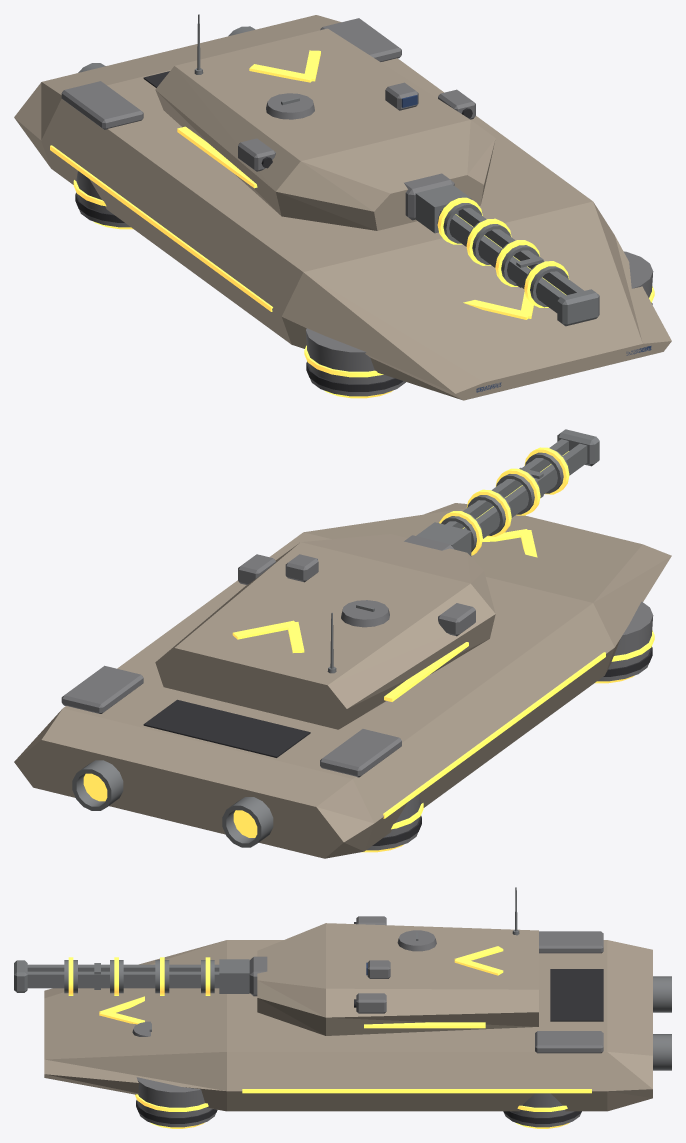
The model's file is hover_tank_red.glb.
The picture shows the model from 3 angles, top to bottom: view 1: azimuth 30°, elevation 25°; view 2: azimuth 150°, elevation 25°; view 3: azimuth 270°, elevation 25°; orthographic projection. The views are drawn at different scales.
Parts seen in each view (by area): view 1: body, turret, gun; view 2: body, turret, gun; view 3: body, turret, gun.
Part boxes in pixels (x1,y1,x2,y2): body: (14,15,671,400); turret: (155,14,495,230); gun: (404,173,599,326); body: (14,503,671,858); turret: (155,534,495,729); gun: (404,429,599,556); body: (44,931,671,1128); turret: (257,887,538,1035); gun: (14,956,267,996).
Bounding box in the file's own units: 4.02 × 2.25 × 8.65.
